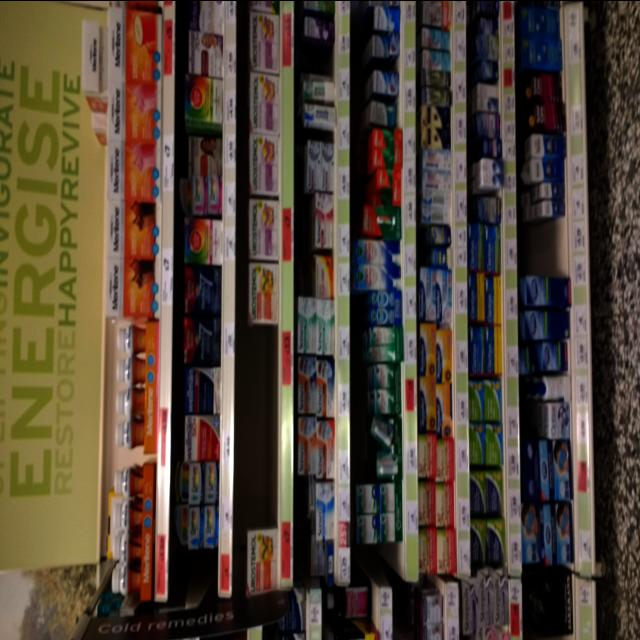empty_space: (252, 342, 276, 514), (520, 223, 560, 265), (181, 553, 212, 589), (298, 47, 334, 67)
